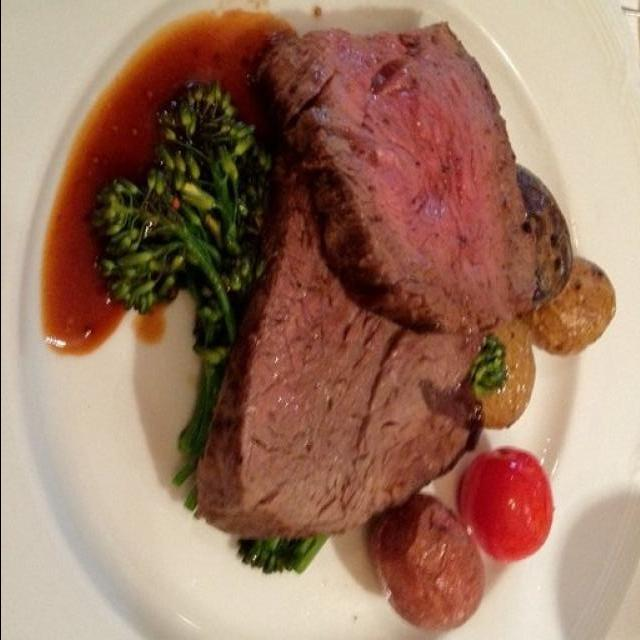tomato: (458, 449, 564, 565)
